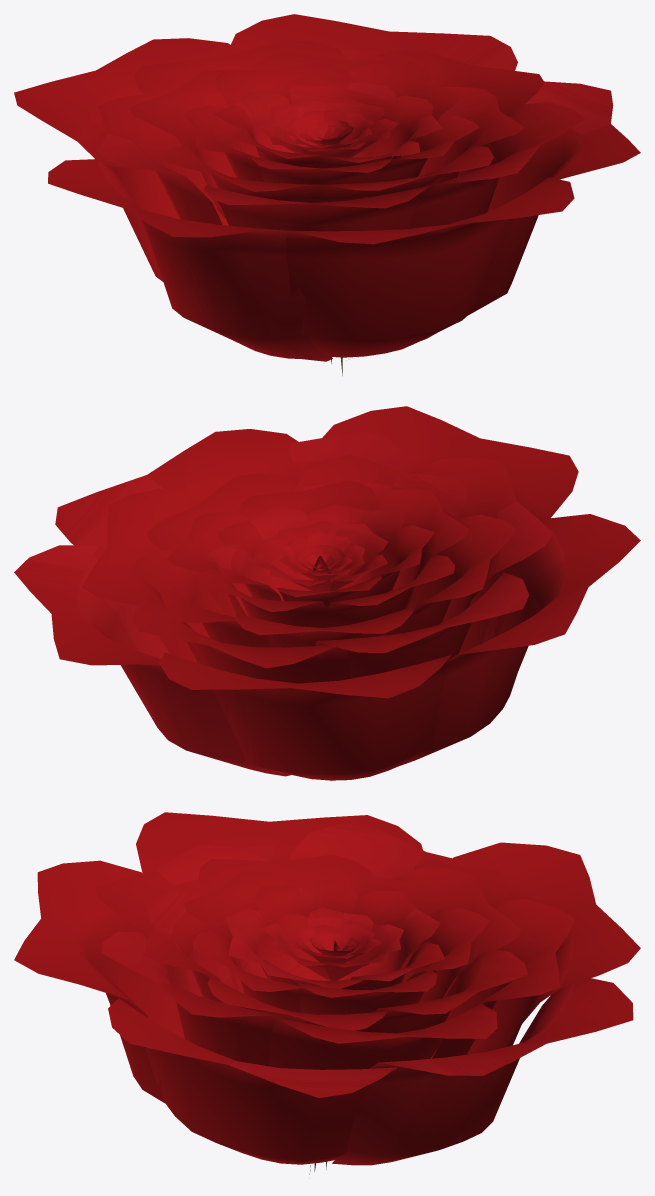
3 renders of one model, top to bottom at view 1: azimuth 30°, elevation 25°; view 2: azimuth 150°, elevation 25°; view 3: azimuth 270°, elevation 25°, orthographic.
Parts seen in each view (by area): view 1: 22d655ad; view 2: 22d655ad; view 3: 22d655ad.
Part boxes in pixels (x1,y1,x2,y2): 22d655ad: (14, 14, 640, 375); 22d655ad: (14, 406, 640, 780); 22d655ad: (14, 812, 640, 1174).
Bounding box in the file's own units: 0.0916 × 0.0428 × 0.0924.
Materials: 2 (2 with a texture image).
